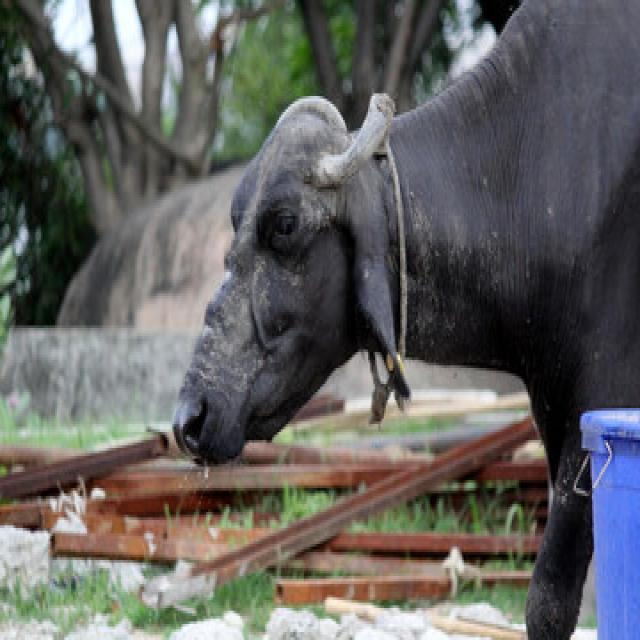Buffalo: (168, 0, 638, 637)
